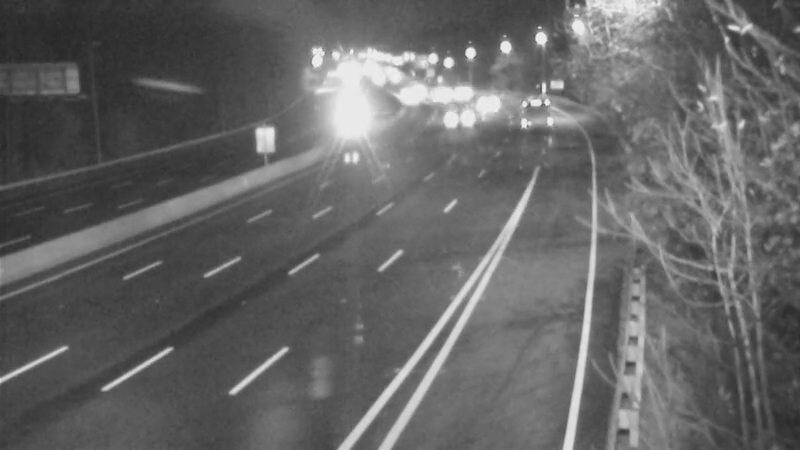vehicle: (385, 71, 435, 121), (457, 75, 507, 125), (509, 86, 559, 136), (430, 92, 480, 142), (319, 93, 369, 143)
